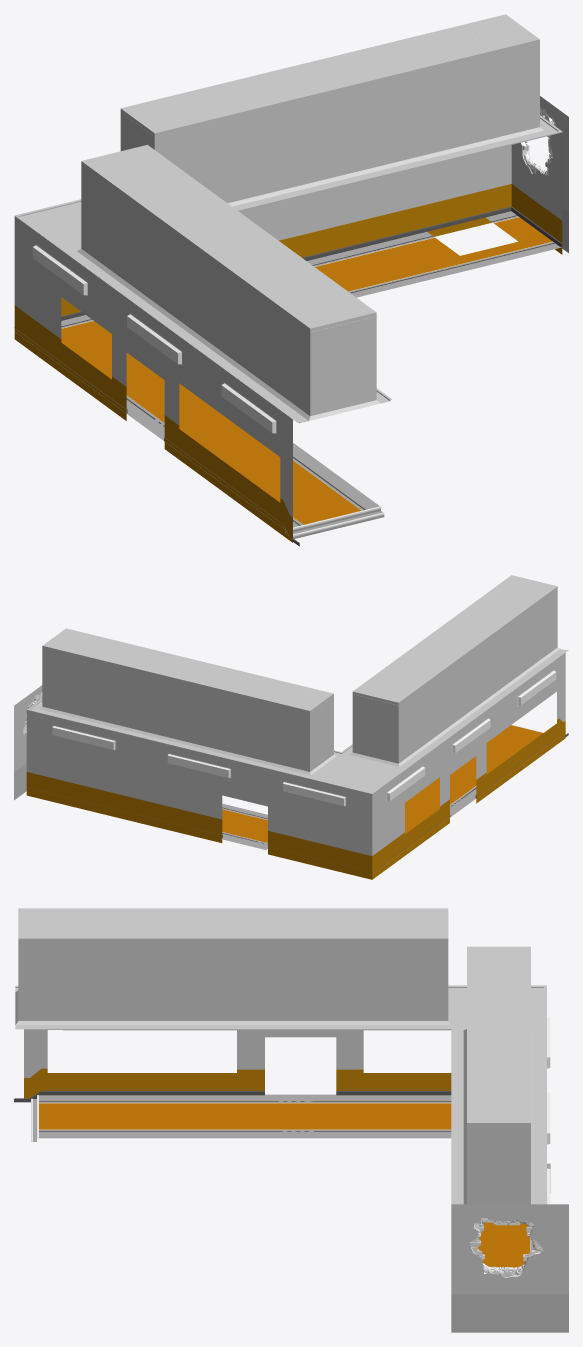
3 views of the same model, one above another, from view 1: azimuth 30°, elevation 25°; view 2: azimuth 150°, elevation 25°; view 3: azimuth 270°, elevation 25° (orthographic). The views are drawn at different scales.
Parts seen in each view (by area): view 1: SM_H_Building_FutureTech_HBlack_01_InterWall_11D; view 2: SM_H_Building_FutureTech_HBlack_01_InterWall_11D; view 3: SM_H_Building_FutureTech_HBlack_01_InterWall_11D.
Part boxes in pixels (box(x1,y1,x2,y2)): SM_H_Building_FutureTech_HBlack_01_InterWall_11D: box(14, 14, 568, 546); SM_H_Building_FutureTech_HBlack_01_InterWall_11D: box(14, 575, 568, 879); SM_H_Building_FutureTech_HBlack_01_InterWall_11D: box(14, 908, 568, 1332).
Size of the model in its own units: 806 by 799 by 321.
